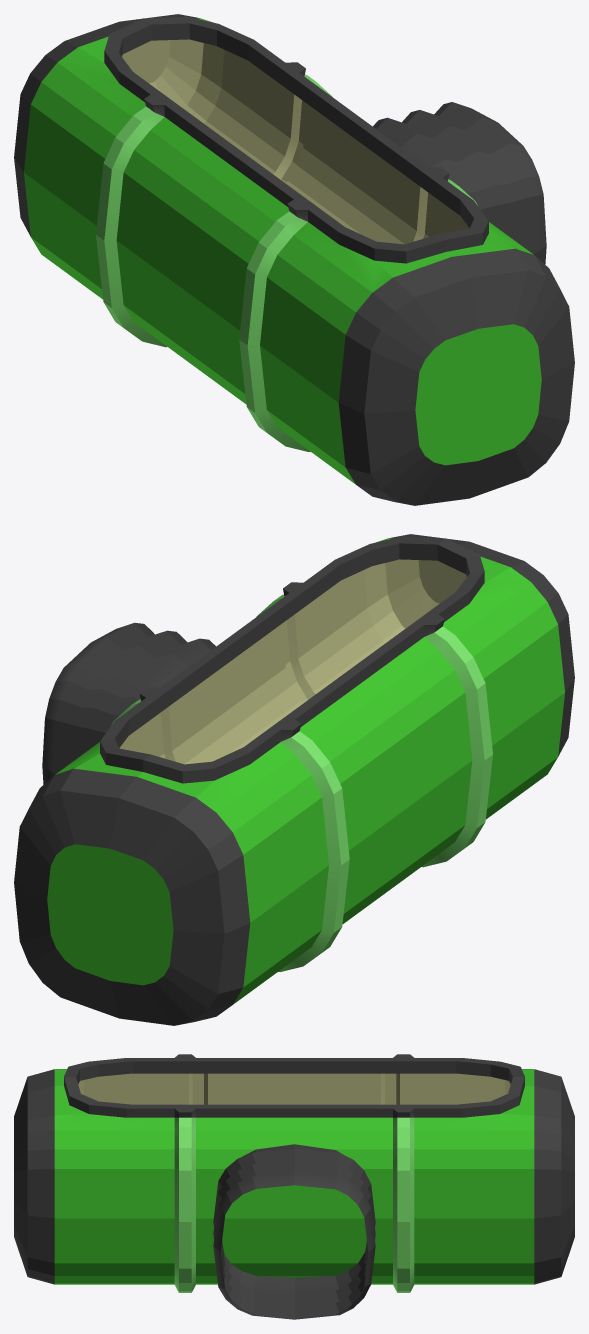
File: PackageTank_1.fbx
The picture shows the model from 3 angles, top to bottom: view 1: azimuth 30°, elevation 25°; view 2: azimuth 150°, elevation 25°; view 3: azimuth 270°, elevation 25°; orthographic projection. The views are drawn at different scales.
Visible parts, largest first — view 1: polySurface8; view 2: polySurface8; view 3: polySurface8.
Boxes of the visible parts, x1,y1,x2,y2 form: polySurface8: (14, 14, 574, 505); polySurface8: (14, 534, 574, 1025); polySurface8: (14, 1054, 574, 1319).
Bounding box in the file's own units: 2.58 × 1.96 × 5.05.
